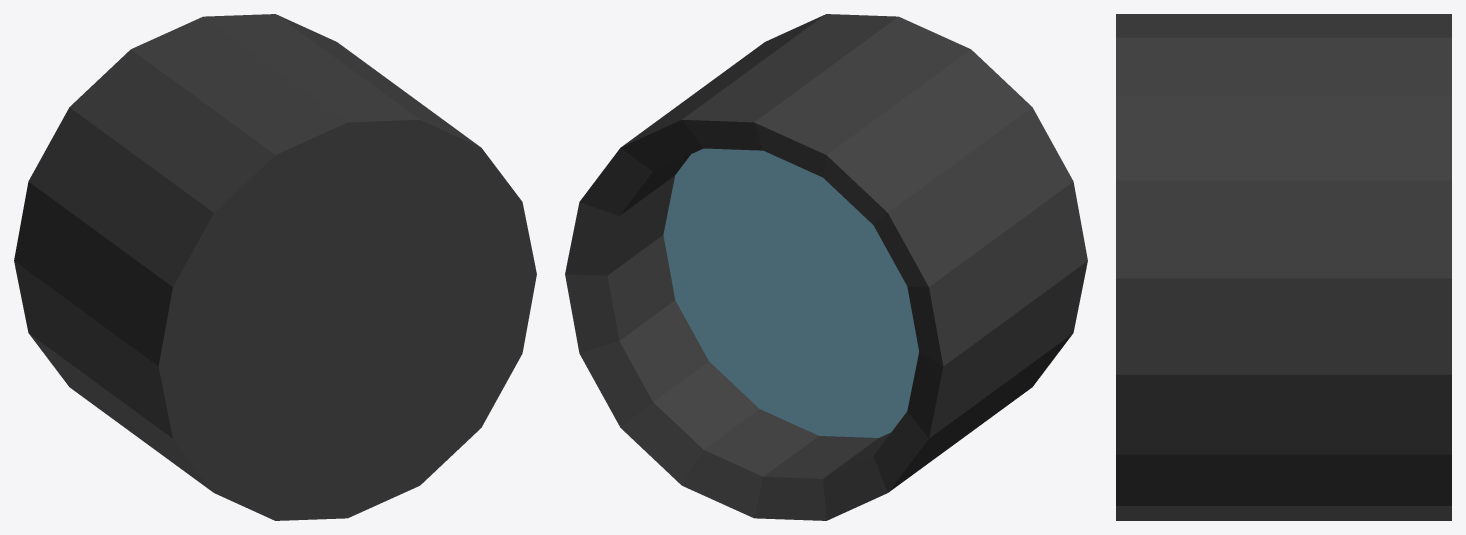
The model's file is resevoir.fbx.
The picture shows the model from 3 angles, left to right: view 1: azimuth 30°, elevation 25°; view 2: azimuth 150°, elevation 25°; view 3: azimuth 270°, elevation 25°; orthographic projection. The views are drawn at different scales.
Visible parts, largest first — view 1: Circle; view 2: Circle; view 3: Circle.
Boxes of the visible parts, bbox=[...] form: Circle: bbox=[14, 14, 536, 520]; Circle: bbox=[565, 14, 1087, 520]; Circle: bbox=[1116, 14, 1451, 520].
Bounding box in the file's own units: 243 × 243 × 161.
